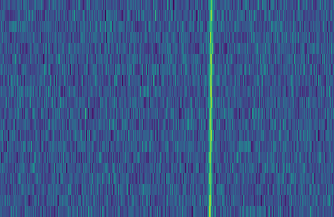signal: (206, 0, 216, 217)
